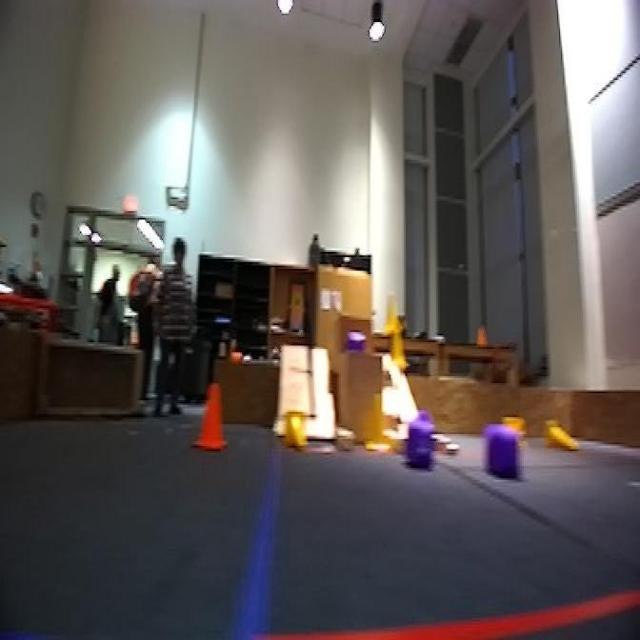frc_cone: (365, 392, 395, 454), (543, 418, 578, 452), (283, 410, 310, 453), (386, 325, 408, 373), (385, 303, 402, 335), (501, 412, 524, 429)
frc_cube: (486, 429, 522, 478), (399, 417, 433, 465), (342, 332, 365, 352)
